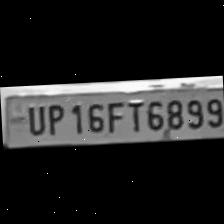1: (63, 100, 83, 134)
6: (140, 95, 164, 131), (81, 99, 105, 134)
8: (160, 94, 184, 130)
9: (201, 94, 223, 128), (182, 93, 202, 129)
F: (102, 97, 124, 133)
P: (42, 99, 64, 135)
T: (122, 96, 142, 132)
U: (20, 100, 44, 136)
